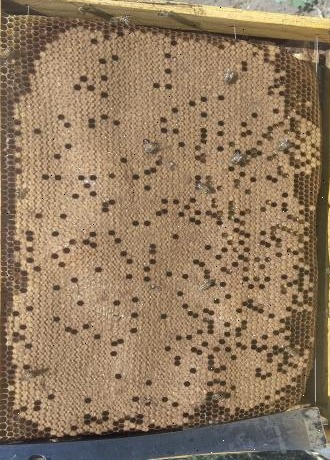cria: (3, 23, 320, 438)
